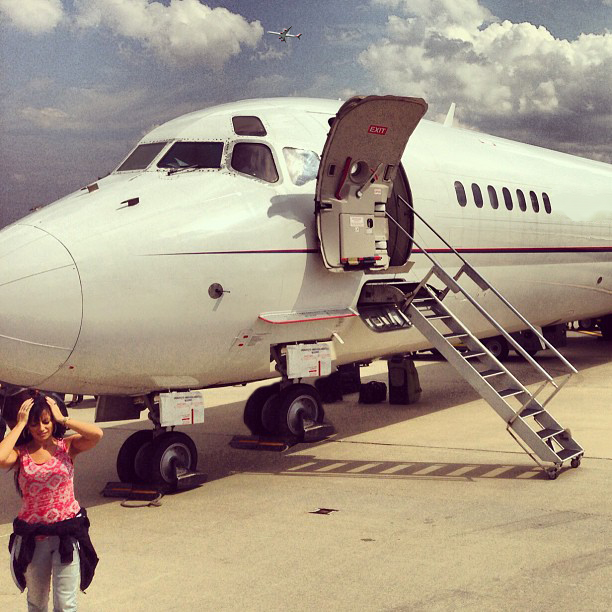copymove: (231, 340, 337, 456)
removal: (556, 188, 612, 220)
spliced: (261, 23, 304, 46)
